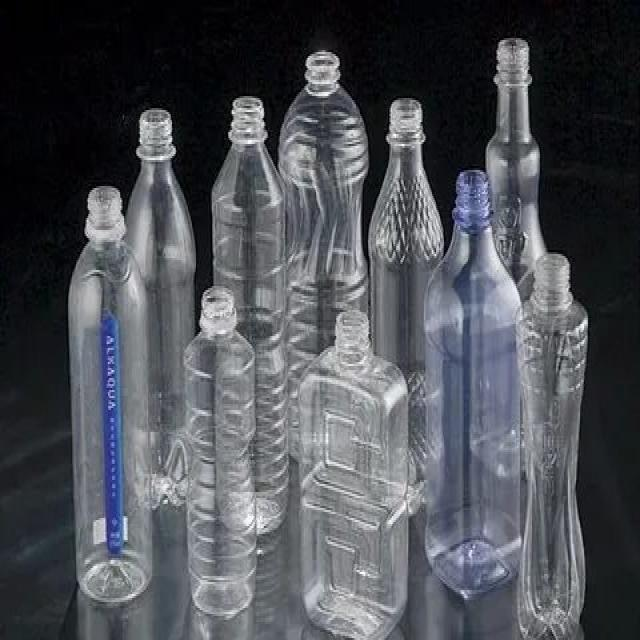blue: (426, 172, 524, 598)
